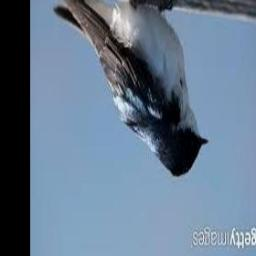Swallow: (53, 0, 208, 177)
